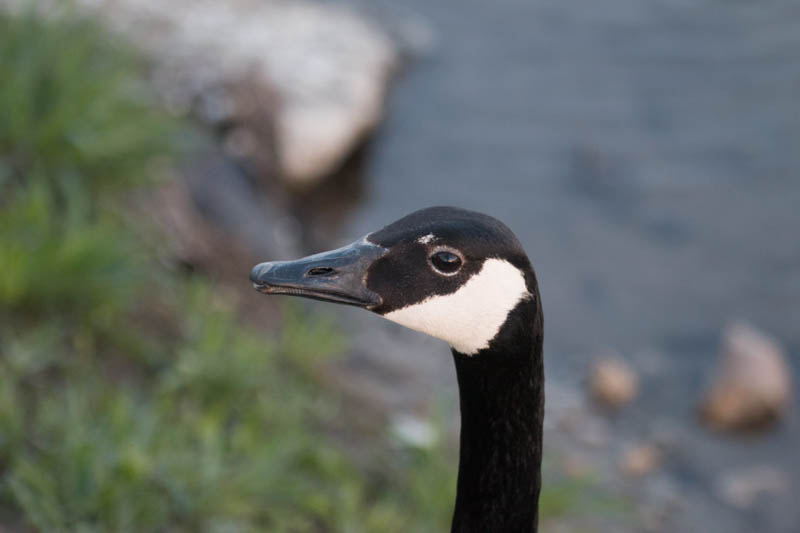goose-head: (249, 205, 545, 359)
